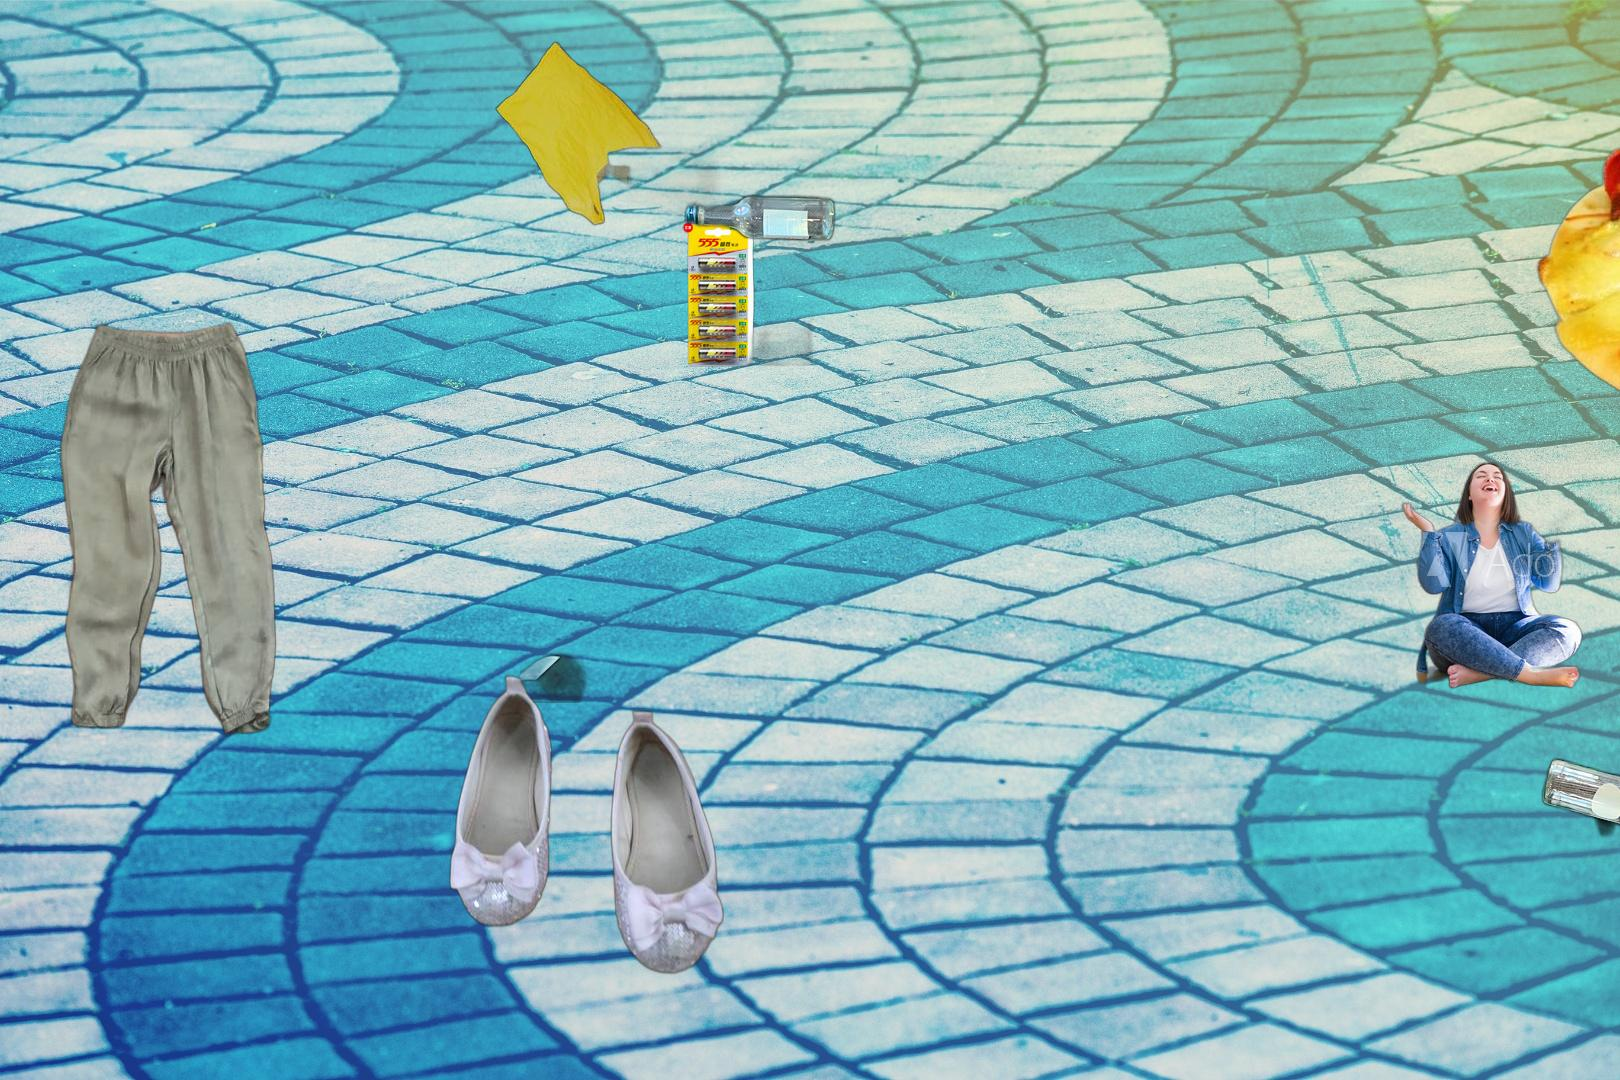battery: (680, 219, 820, 369)
biological: (1533, 135, 1620, 462)
clothes: (57, 319, 280, 739)
glass: (520, 190, 840, 703), (1537, 752, 1620, 1080)
plastic-bag: (494, 35, 730, 325)
shoes: (447, 671, 727, 978)
trashbox-cardboard: (1399, 460, 1604, 692)
